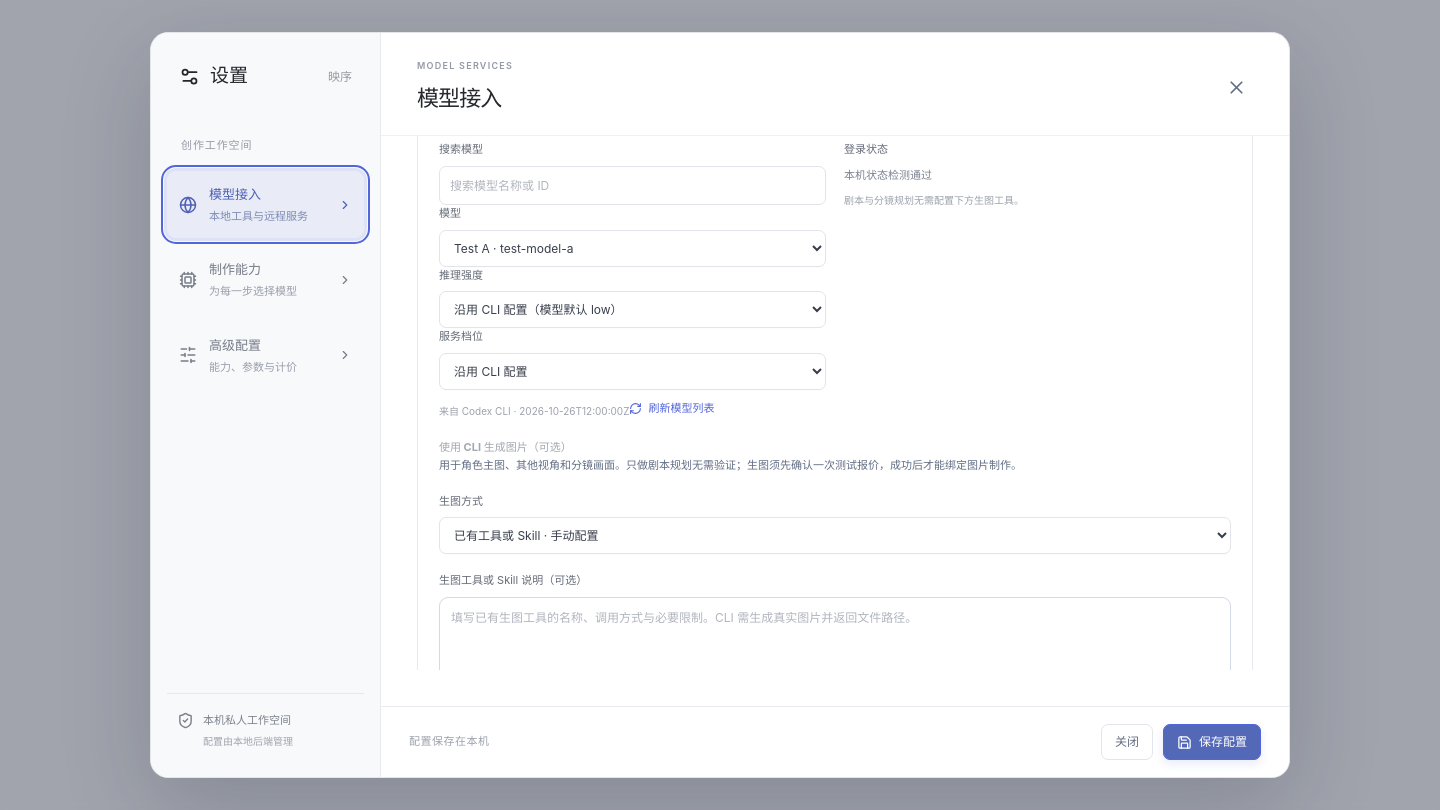
Test: 模型服务交互 › 刷新失败标记过期目录，不自动改选模型
(page scrolled)
Click the button "刷新模型列表" at (672, 404), box [629, 390, 714, 417]
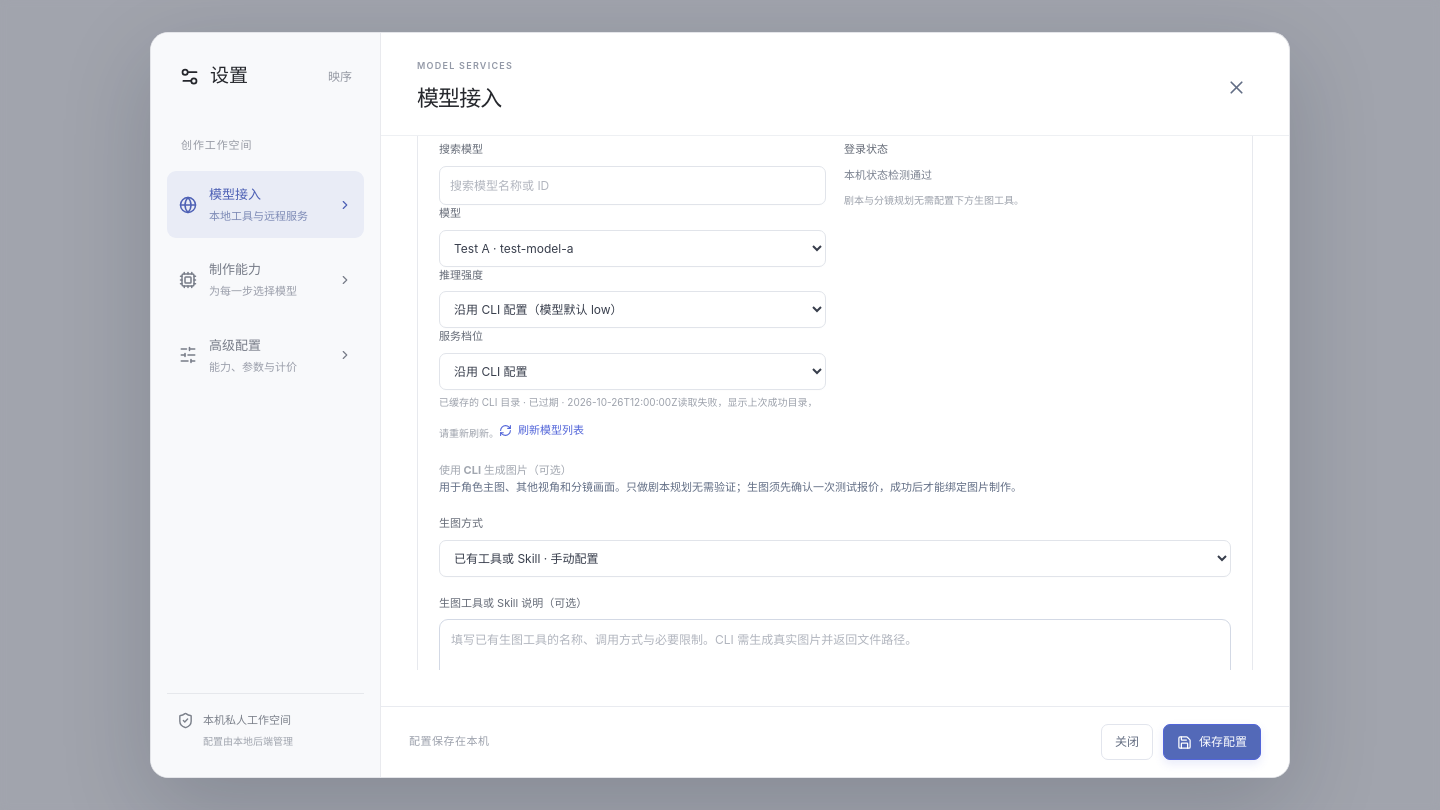
Expected: the dropdown labelled "模型" shows "Test A · test-model-a", [439, 230, 826, 266]
Result: the text "已缓存的 CLI 目录 · 已过期 · 2026-10-26T12:00:00Z" is shown at [439, 396, 677, 408]
